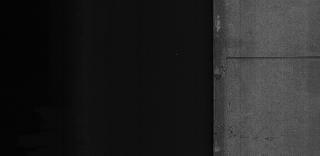scratches: (220, 52, 320, 66)
